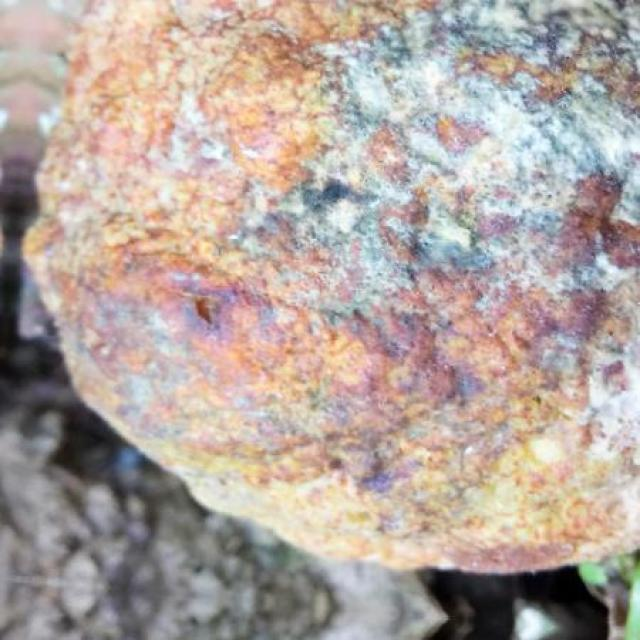Phytopthora: (26, 1, 640, 571)
